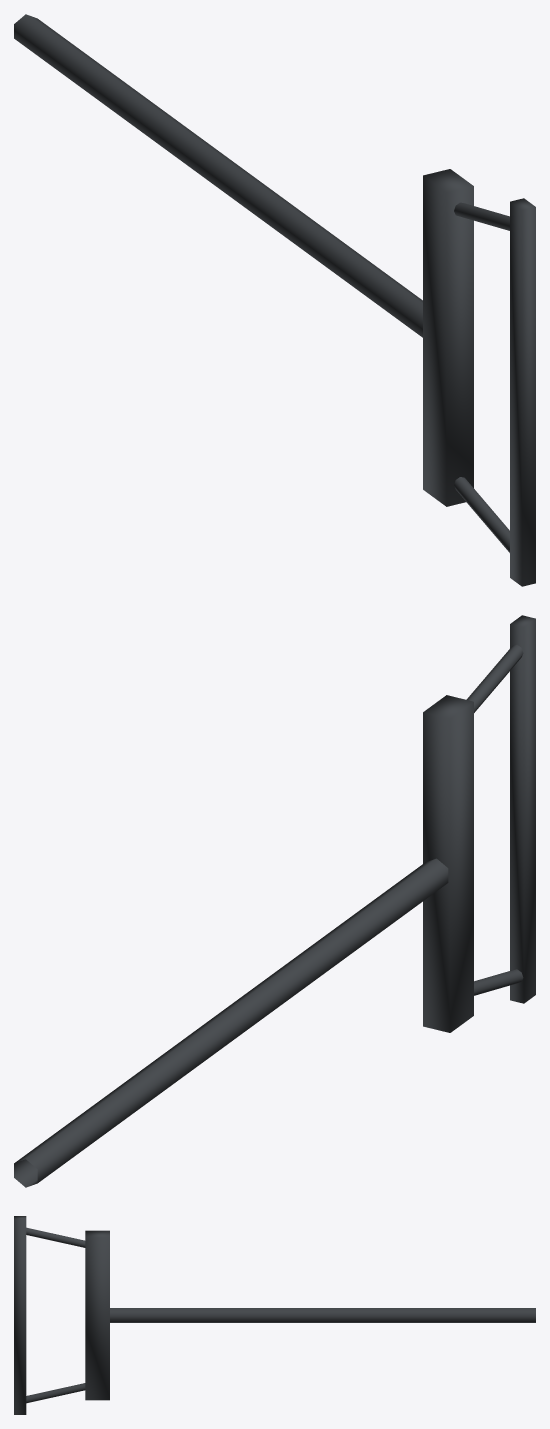
File: Pylon_Aerialway_ns.obj
The picture shows the model from 3 angles, top to bottom: view 1: azimuth 30°, elevation 25°; view 2: azimuth 150°, elevation 25°; view 3: azimuth 270°, elevation 25°; orthographic projection. The views are drawn at different scales.
Parts seen in each view (by area): view 1: Pylon_Aerialway_ns; view 2: Pylon_Aerialway_ns; view 3: Pylon_Aerialway_ns.
Part boxes in pixels (bbox=[...]): Pylon_Aerialway_ns: bbox=[14, 14, 535, 586]; Pylon_Aerialway_ns: bbox=[14, 615, 535, 1187]; Pylon_Aerialway_ns: bbox=[14, 1216, 535, 1414].
Bounding box in the file's own units: 0.5 × 6.59 × 15.97.
1 material, 1 textured.
